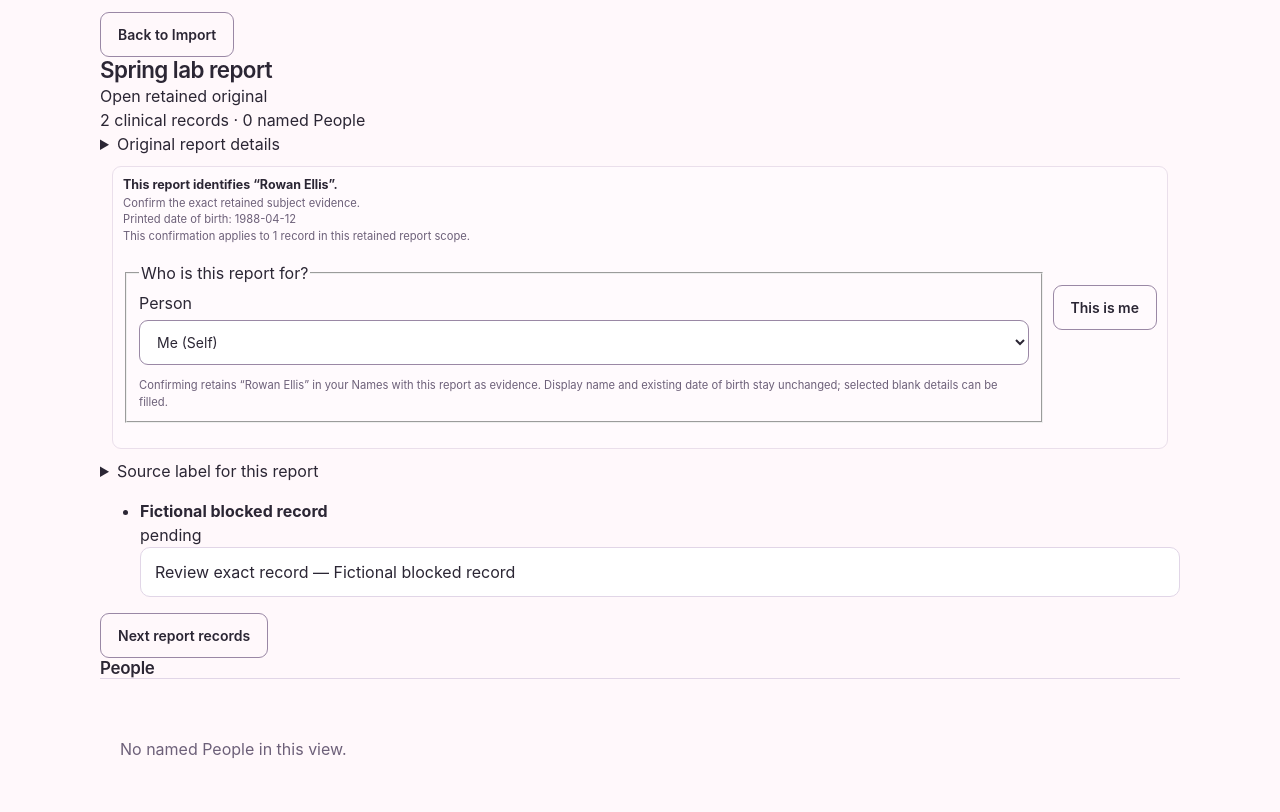
Test case: waits for acknowledged identity grounding before refreshing readiness and retains a later referenced page
Step 1. Click the button "This is me" → (1105,307), box x1=1052 y1=285 x2=1157 y2=330
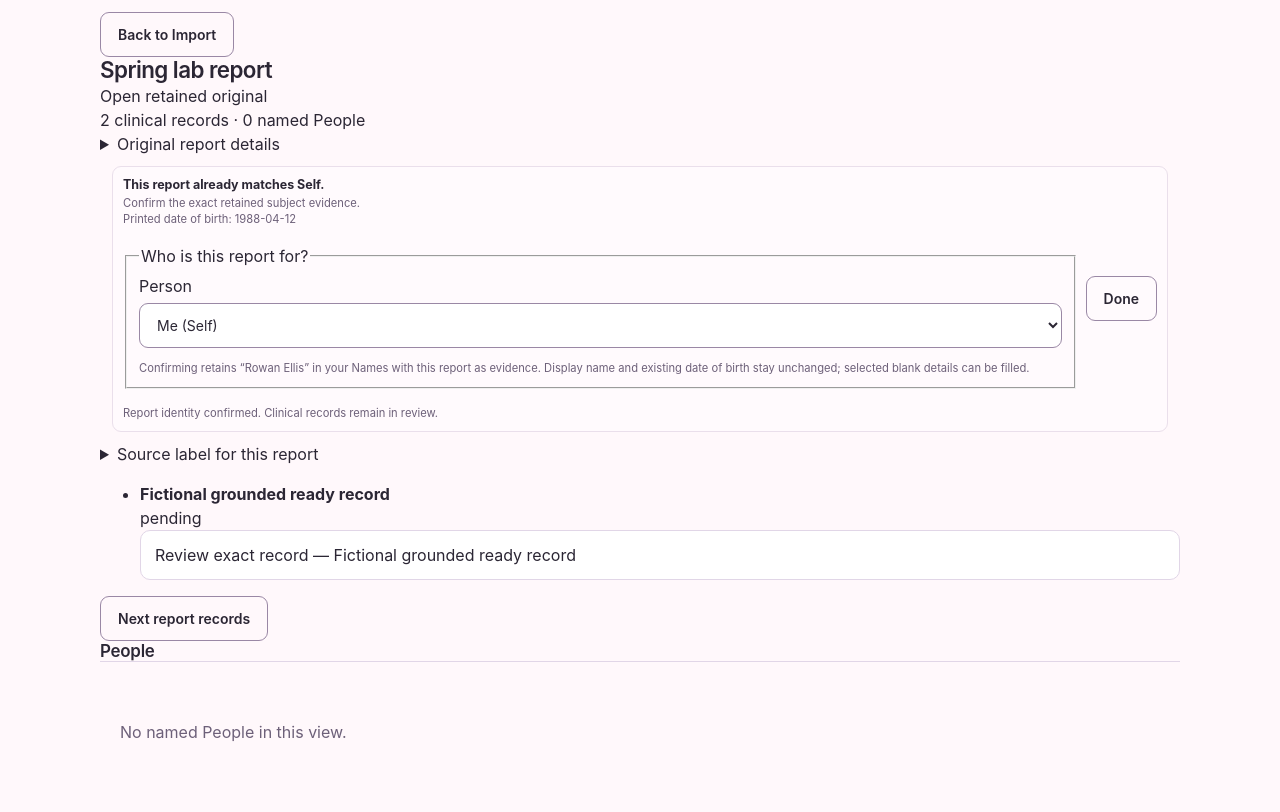
Now the text "This report already matches Self." is shown, box x1=123 y1=177 x2=324 y2=192
Now the link "Review exact record — Fictional grounded ready record" is shown, box x1=140 y1=530 x2=1180 y2=580
Step 2. Click the button "Next report records" → (184,618), box x1=100 y1=596 x2=268 y2=641
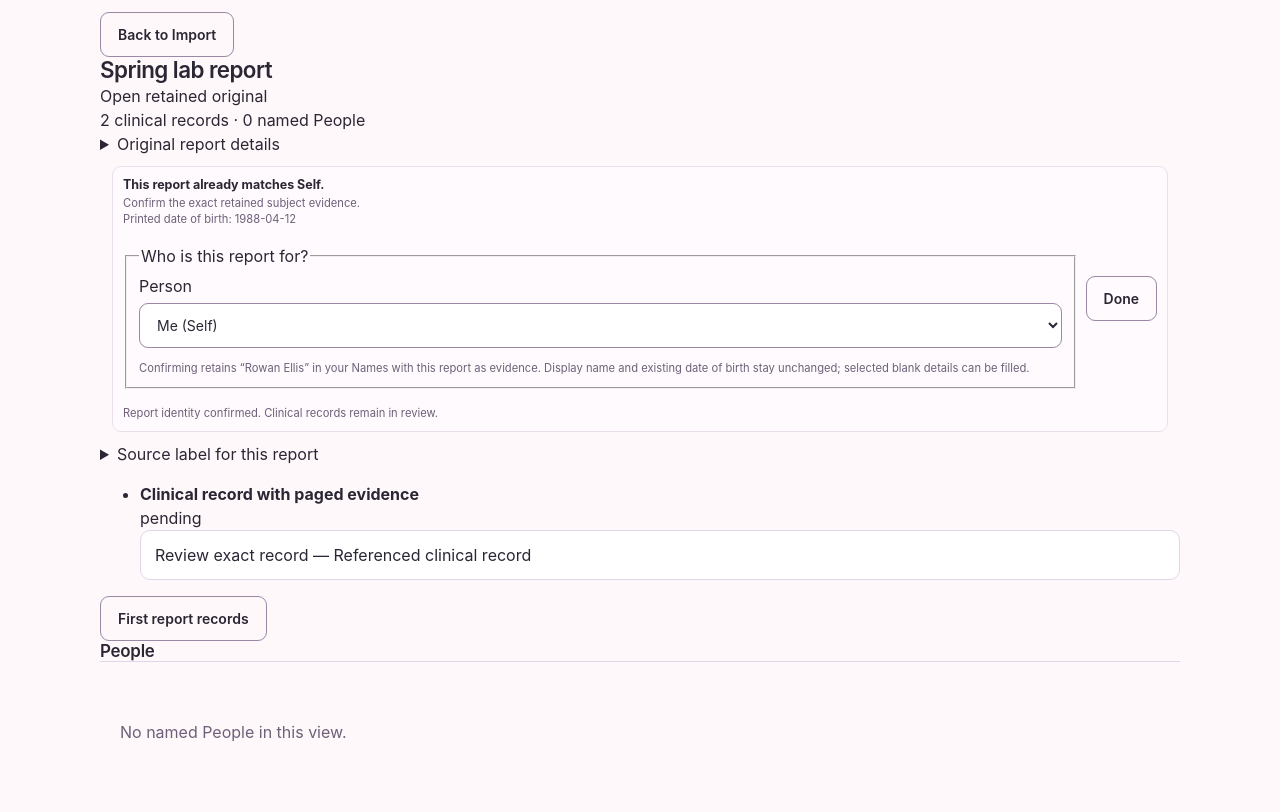
Now the text "This report already matches Self." is shown, box x1=123 y1=177 x2=324 y2=192
Now the button "First report records" is shown, box x1=100 y1=596 x2=267 y2=641
